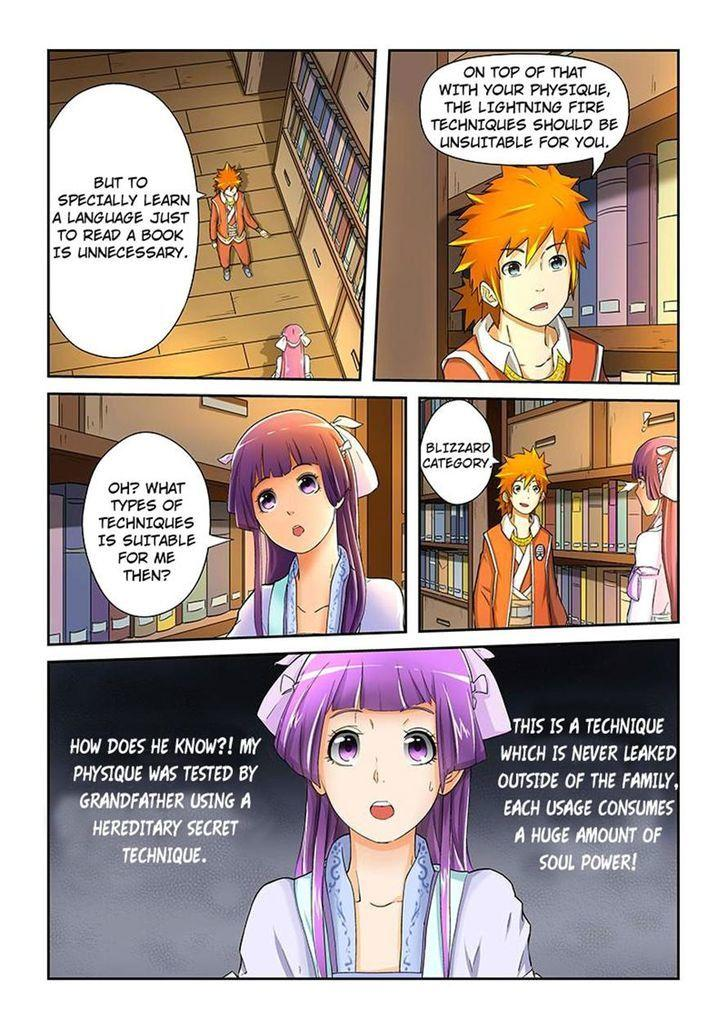Bubble: (45, 82, 201, 361), (81, 430, 212, 619), (418, 53, 632, 168), (419, 395, 496, 506)
